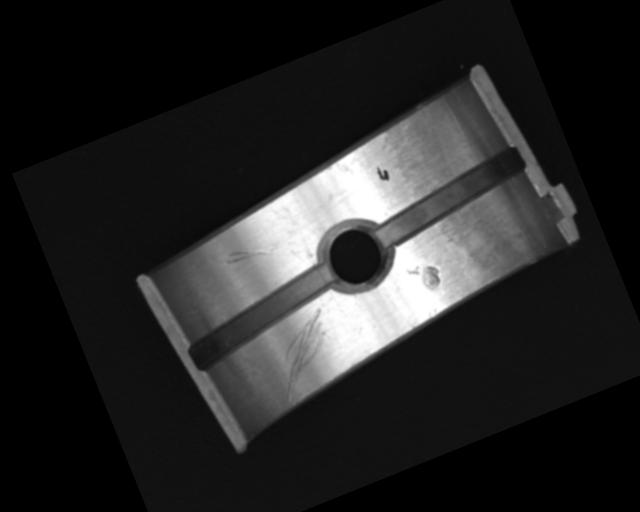blot: (374, 163, 391, 184)
bruise: (406, 258, 445, 297)
gap: (177, 260, 347, 371), (365, 144, 535, 248)
hole: (313, 211, 397, 298)
nick: (257, 306, 349, 402), (223, 235, 279, 270)
